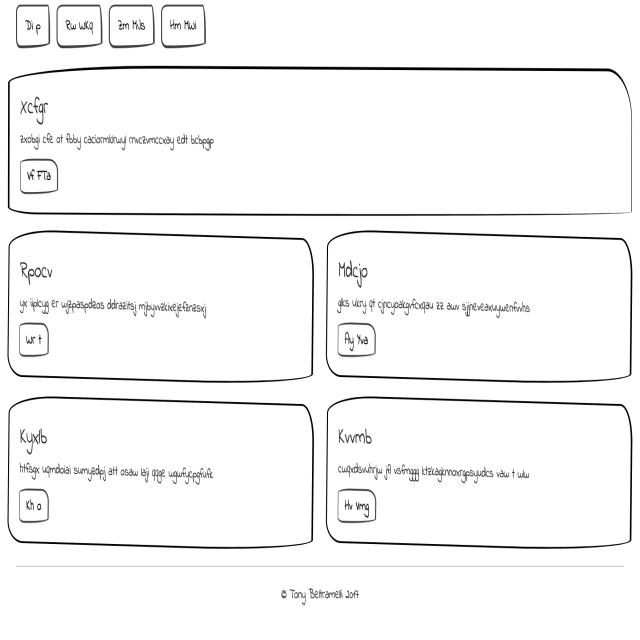Button: (331, 316, 380, 367), (12, 483, 55, 528), (17, 161, 62, 199), (21, 322, 51, 365), (338, 493, 380, 517)
Card: (9, 68, 638, 222), (4, 384, 316, 551), (325, 390, 632, 550), (14, 235, 314, 386), (326, 237, 625, 382)
Footer: (0, 564, 638, 640), (0, 566, 640, 640)
Heading 6: (21, 292, 222, 320), (20, 254, 78, 299), (334, 410, 390, 450), (331, 249, 377, 296), (18, 408, 59, 458), (20, 87, 56, 130)
Navigation Bar: (19, 6, 217, 49)
Paragraph: (12, 451, 218, 488), (17, 130, 217, 161), (331, 290, 537, 316), (330, 460, 537, 482)
